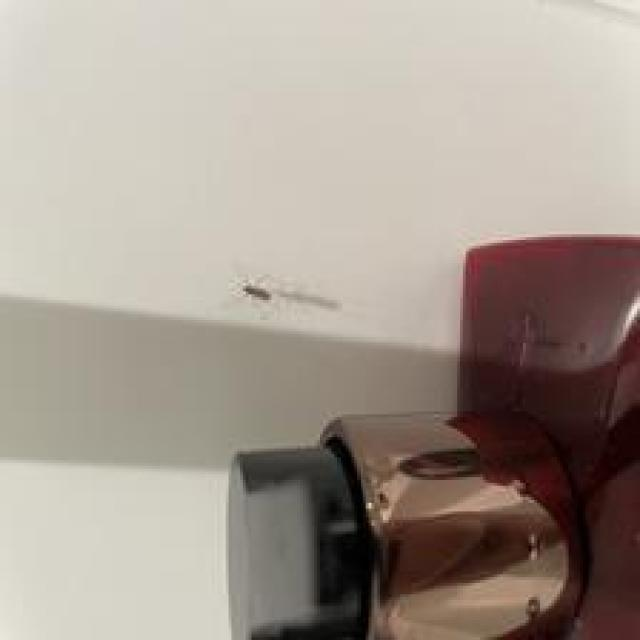Culex: (225, 231, 640, 639)
